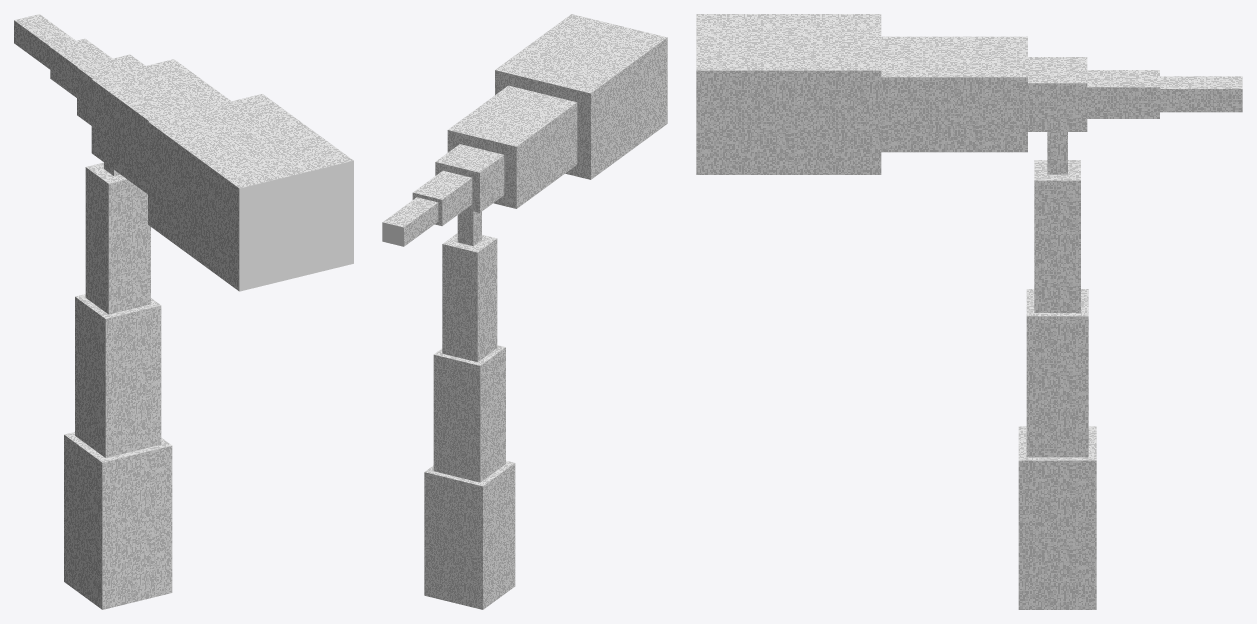
The model's file is BLOCKYGON_SCOPE.fbx.
3 views of the same model, side by side, from view 1: azimuth 30°, elevation 25°; view 2: azimuth 150°, elevation 25°; view 3: azimuth 270°, elevation 25° (orthographic). The views are drawn at different scales.
Parts seen in each view (by area): view 1: BLOCKYGON_SCOPE; view 2: BLOCKYGON_SCOPE; view 3: BLOCKYGON_SCOPE.
Boxes of the visible parts, x1,y1,x2,y2 form: BLOCKYGON_SCOPE: [14, 14, 353, 609]; BLOCKYGON_SCOPE: [382, 14, 667, 609]; BLOCKYGON_SCOPE: [696, 14, 1242, 609].
Bounding box in the file's own units: 36.46 × 165 × 149.
